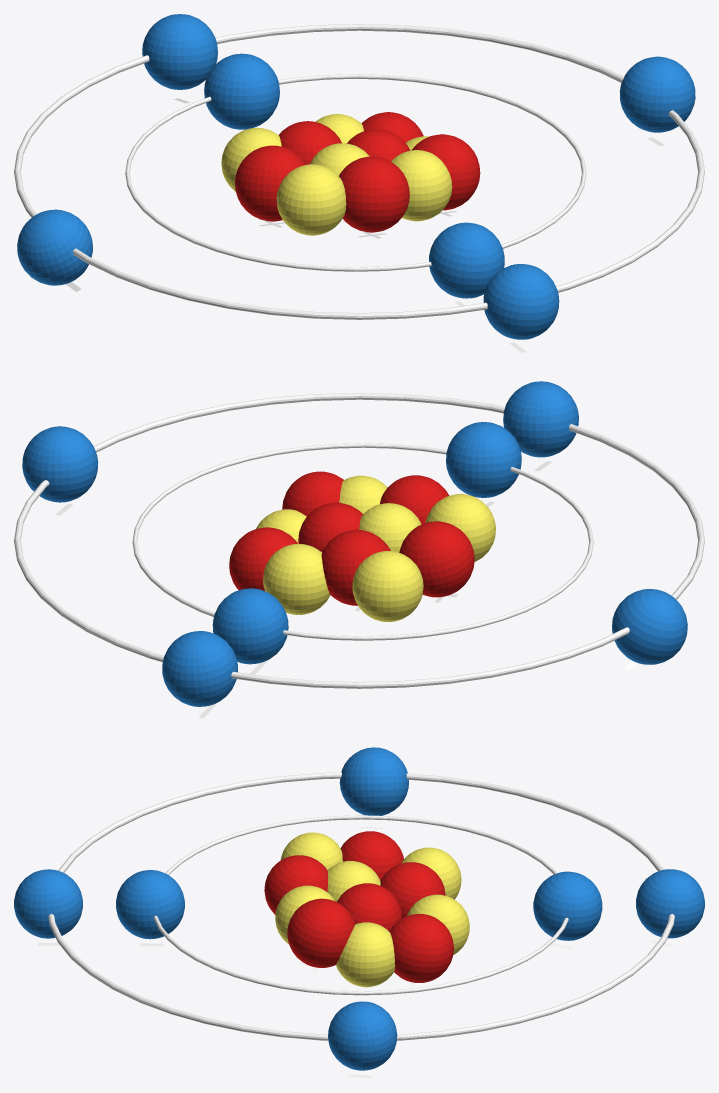
3 views of the same model, one above another, from view 1: azimuth 30°, elevation 25°; view 2: azimuth 150°, elevation 25°; view 3: azimuth 270°, elevation 25° (orthographic). The views are drawn at different scales.
Visible parts, largest first — view 1: Torus.002, Torus.001, -.001, -.005, -.004, -.002, -.003, -, f.002, Sphere.003, f.003, Sphere.001 (+7 smaller); view 2: Torus.002, Torus.001, -, -.004, -.002, -.003, -.005, -.001, Sphere.006, f.003, Sphere.005, f (+8 smaller); view 3: Torus.002, Torus.001, -.002, -.003, -.001, -, -.004, -.005, f.004, f.005, Sphere.004, f.002 (+8 smaller).
Boxes of the visible parts, box(x1,y1,x2,y2) form: Torus.002: box(14, 24, 704, 319); Torus.001: box(125, 74, 586, 271); -.001: box(204, 53, 279, 129); -.005: box(483, 264, 559, 339); -.004: box(142, 14, 217, 89); -.002: box(619, 56, 695, 132); -.003: box(17, 209, 92, 285); -: box(429, 222, 504, 298); f.002: box(339, 156, 409, 232); Sphere.003: box(276, 164, 346, 235); f.003: box(235, 145, 305, 221); Sphere.001: box(391, 150, 452, 221); Torus.002: box(14, 393, 704, 688); Torus.001: box(132, 443, 593, 640); -: box(446, 422, 521, 497); -.004: box(162, 631, 237, 706); -.002: box(22, 426, 98, 502); -.003: box(612, 589, 687, 664); -.005: box(503, 381, 578, 457); -.001: box(212, 588, 288, 664); Sphere.006: box(352, 551, 423, 621); f.003: box(399, 521, 474, 597); Sphere.005: box(263, 543, 330, 614); f: box(321, 529, 390, 605); Torus.002: box(48, 772, 674, 1040); Torus.001: box(153, 815, 568, 995); -.002: box(328, 1001, 397, 1070); -.003: box(339, 747, 408, 815); -.001: box(533, 871, 602, 940); -: box(116, 870, 184, 939); -.004: box(636, 869, 704, 938); -.005: box(14, 869, 82, 938); f.004: box(287, 898, 355, 967); f.005: box(389, 914, 453, 982); Sphere.004: box(336, 922, 395, 987); f.002: box(264, 855, 327, 914).
Size of the model in its own units: 4.68 by 0.6644 by 4.64.
